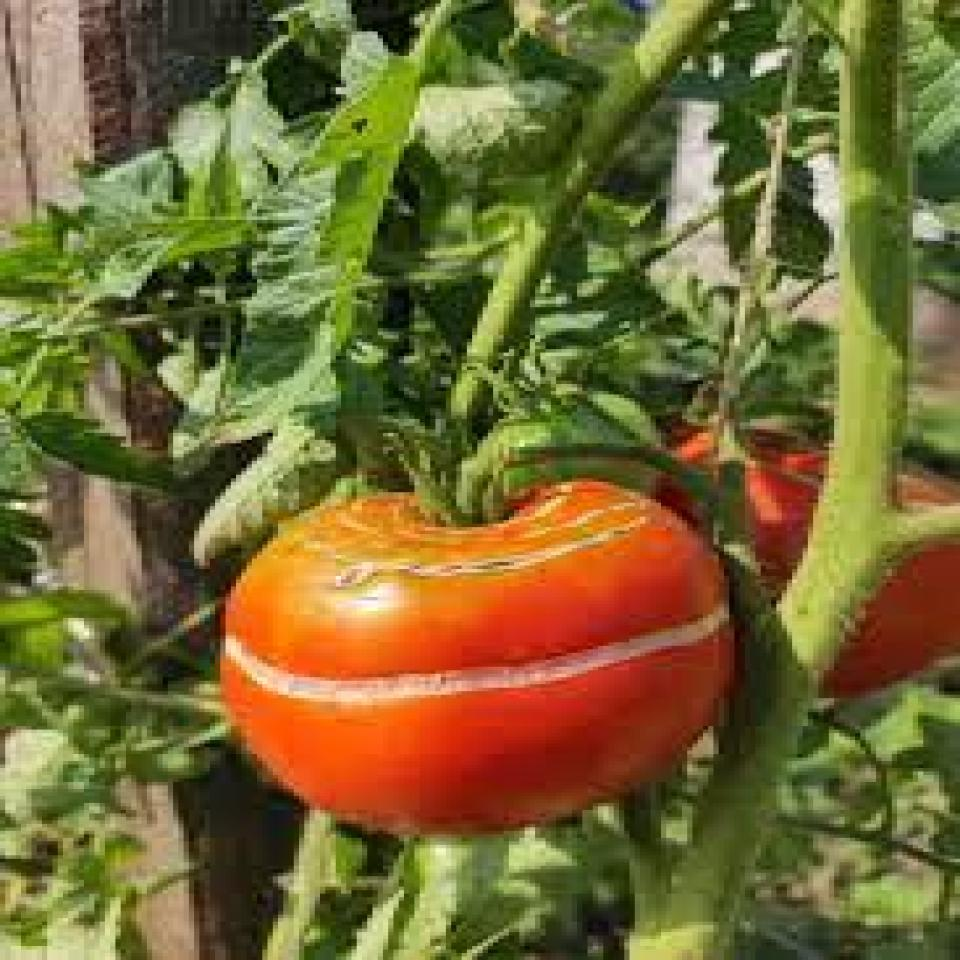Cracking: (210, 597, 735, 725)
